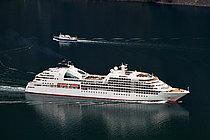Ship: (18, 56, 193, 107)
